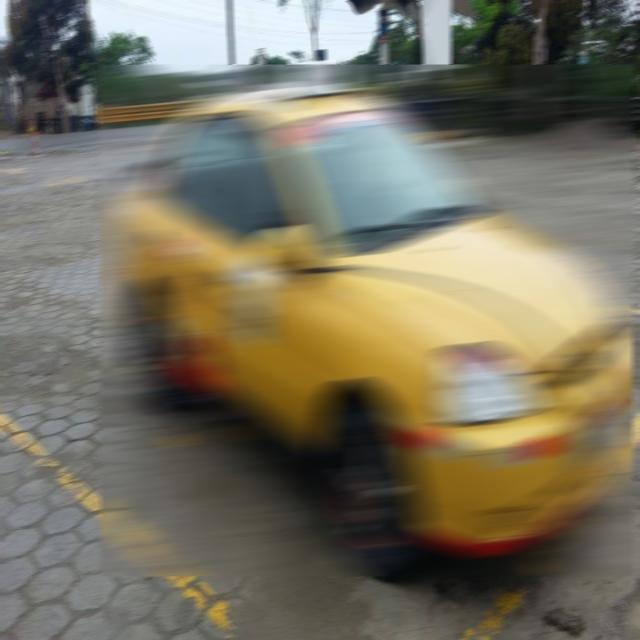Taxi: (99, 64, 633, 576)
